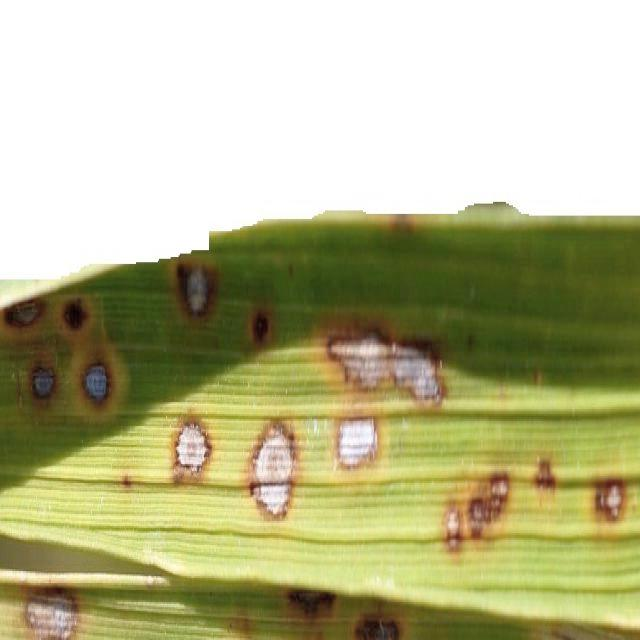Brownspot: (327, 333, 443, 402), (247, 419, 301, 519), (249, 421, 296, 518), (467, 473, 510, 538), (25, 588, 77, 639), (173, 418, 212, 481), (176, 262, 217, 317), (336, 416, 377, 468), (594, 478, 626, 522), (287, 589, 335, 618), (81, 361, 111, 405), (3, 298, 43, 328), (354, 616, 400, 639), (29, 364, 56, 400), (468, 497, 489, 538), (444, 504, 462, 551), (62, 298, 87, 330), (250, 309, 271, 345), (534, 458, 555, 490), (227, 616, 250, 638), (532, 368, 542, 385), (120, 474, 132, 488), (466, 333, 475, 351)
